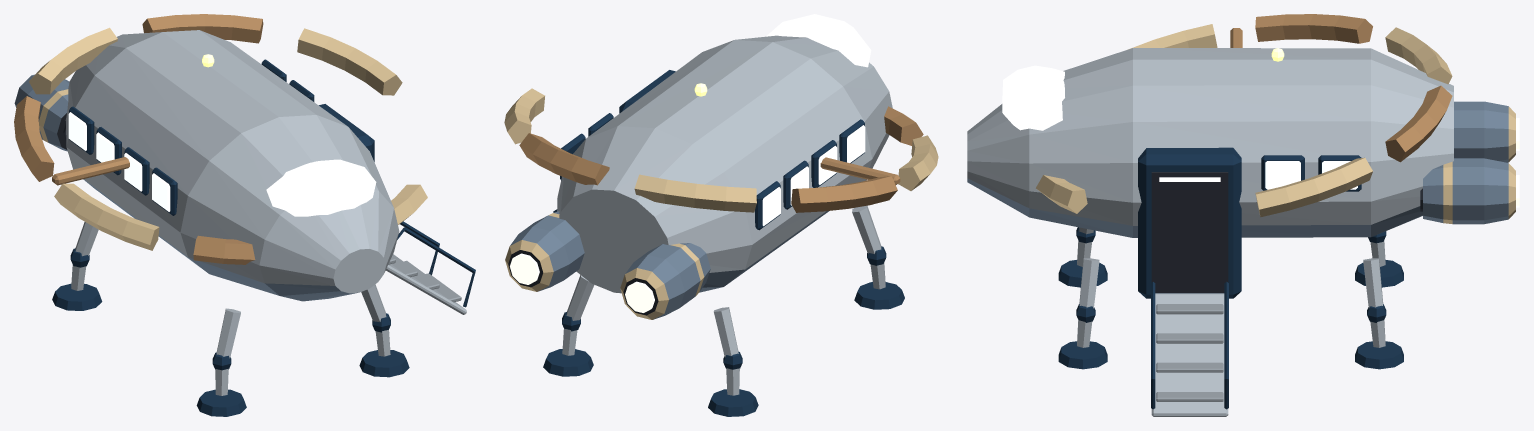
File: rin-p_offen.glb
The picture shows the model from 3 angles, left to right: view 1: azimuth 30°, elevation 25°; view 2: azimuth 150°, elevation 25°; view 3: azimuth 270°, elevation 25°; orthographic projection. The views are drawn at different scales.
Visible parts, largest first — view 1: kabine, ringsegmente, cockpit, fenster, landebein_2, treppe, landebein_1, landebein_4, triebwerk_r, ringstreben, türmodul; view 2: kabine, ringsegmente, triebwerk_r, triebwerk_l, fenster, cockpit, landebein_4, landebein_2, landebein_3, ringstreben, türmodul; view 3: kabine, ringsegmente, treppe, türöffnung, türmodul, triebwerk_l, triebwerk_r, cockpit, landebein_1, landebein_3, fenster, landebein_2 (+1 smaller).
Part boxes in pixels (<box>): kabine: <box>65,30,399,301</box>; ringsegmente: <box>14,14,427,264</box>; cockpit: <box>266,159,376,216</box>; fenster: <box>68,59,314,215</box>; landebein_2: <box>196,308,246,416</box>; treppe: <box>385,221,475,314</box>; landebein_1: <box>359,284,409,377</box>; landebein_4: <box>52,222,102,310</box>; triebwerk_r: <box>14,74,69,151</box>; ringstreben: <box>52,157,129,185</box>; türmodul: <box>319,104,374,161</box>; kabine: <box>557,35,892,293</box>; ringsegmente: <box>504,88,938,212</box>; triebwerk_r: <box>620,243,710,319</box>; triebwerk_l: <box>505,211,584,291</box>; fenster: <box>560,113,865,230</box>; cockpit: <box>766,14,871,67</box>; landebein_4: <box>708,307,758,416</box>; landebein_2: <box>852,205,904,309</box>; landebein_3: <box>543,275,594,376</box>; ringstreben: <box>820,157,900,184</box>; türmodul: <box>619,70,675,113</box>; kabine: <box>967,48,1453,237</box>; ringsegmente: <box>1036,14,1452,217</box>; treppe: <box>1151,281,1228,416</box>; türöffnung: <box>1151,172,1228,292</box>; türmodul: <box>1138,147,1241,298</box>; triebwerk_l: <box>1420,158,1519,224</box>; triebwerk_r: <box>1454,101,1519,162</box>; cockpit: <box>1002,65,1064,130</box>; landebein_1: <box>1058,258,1107,369</box>; landebein_3: <box>1355,258,1403,369</box>; fenster: <box>1261,155,1361,191</box>; landebein_2: <box>1058,227,1107,287</box>.
Size of the model in its own units: 0.1121 by 0.072 by 0.1334.
